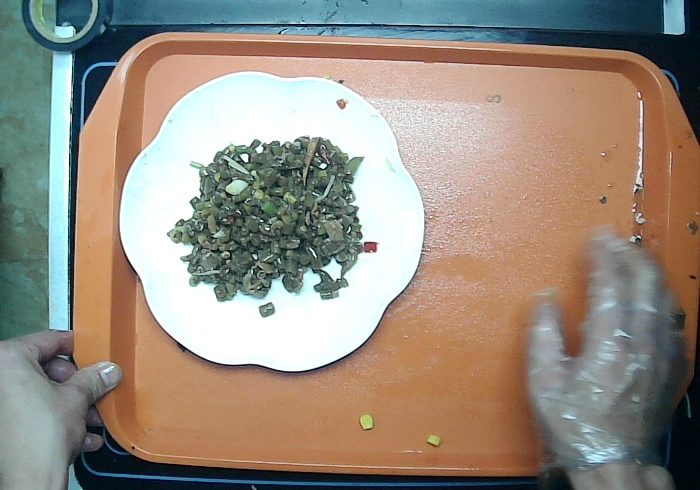HZYJPL-Bai_Se_Hua_Duo_Wan: (116, 67, 428, 374)
